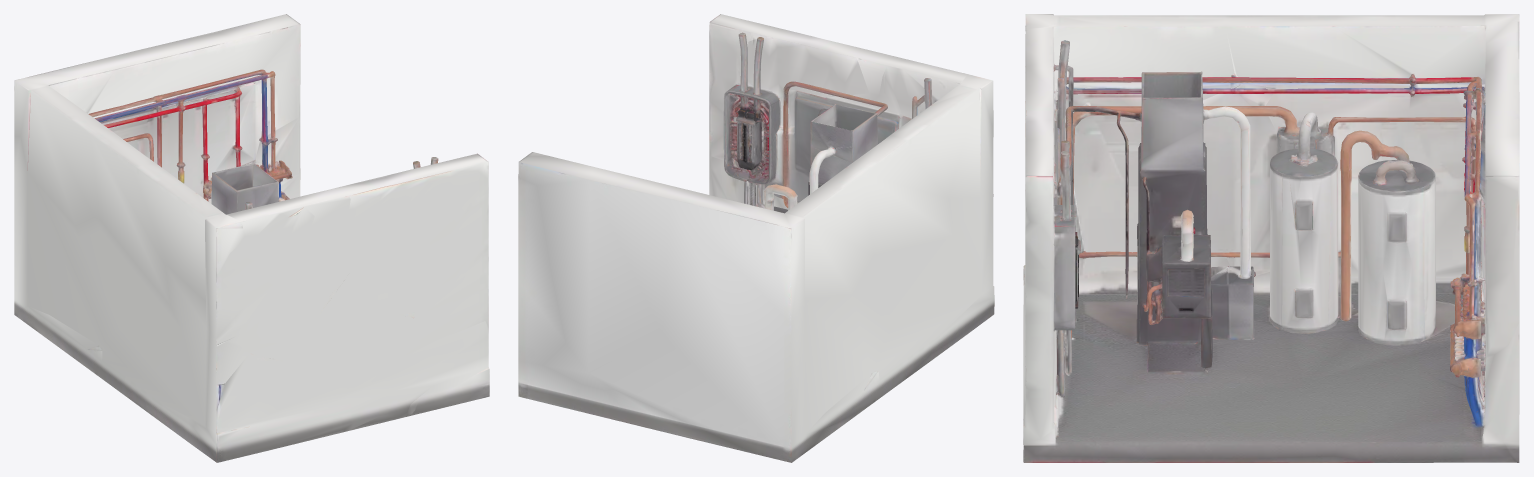
File: interior.glb
3 renders of one model, left to right at view 1: azimuth 30°, elevation 25°; view 2: azimuth 150°, elevation 25°; view 3: azimuth 270°, elevation 25°, orthographic. The views are drawn at different scales.
Parts seen in each view (by area): view 1: Mesh_0; view 2: Mesh_0; view 3: Mesh_0.
Boxes of the visible parts, bbox=[...] form: Mesh_0: bbox=[14, 14, 489, 462]; Mesh_0: bbox=[518, 14, 994, 462]; Mesh_0: bbox=[1023, 14, 1519, 462].
Size of the model in its own units: 1.49 by 1.22 by 1.91.
Materials: 1 (1 with a texture image).
